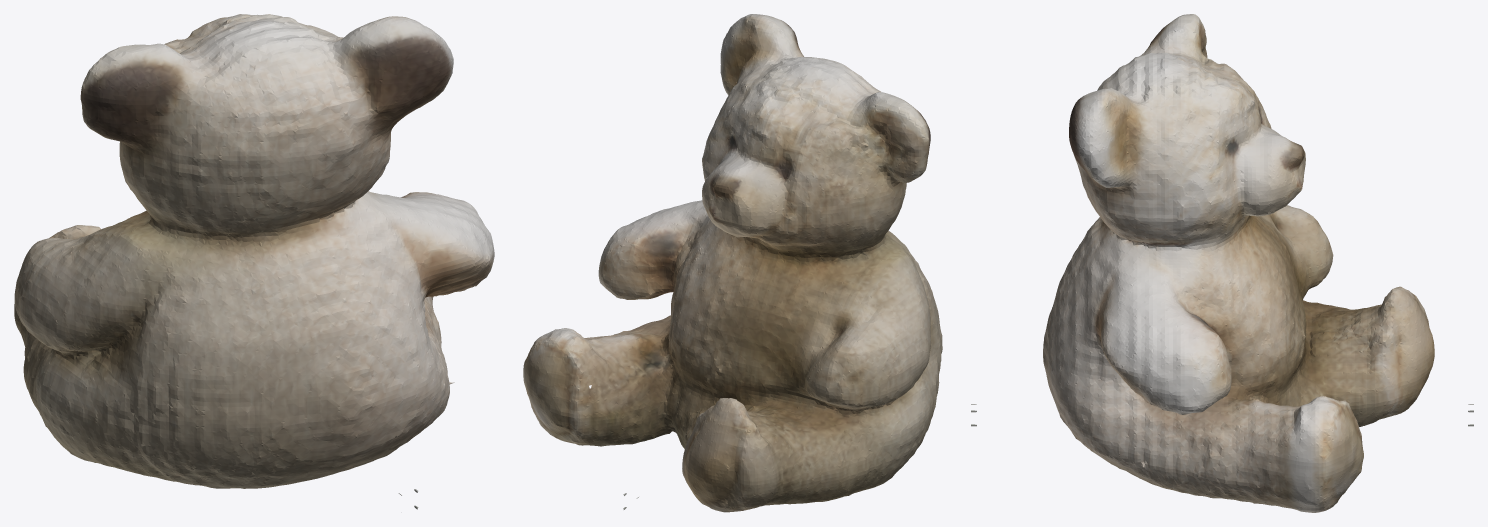
File: full.glb
The picture shows the model from 3 angles, left to right: view 1: azimuth 30°, elevation 25°; view 2: azimuth 150°, elevation 25°; view 3: azimuth 270°, elevation 25°; orthographic projection. The views are drawn at different scales.
Parts seen in each view (by area): view 1: world; view 2: world; view 3: world.
Part boxes in pixels (bbox=[...]): world: bbox=[14, 14, 494, 509]; world: bbox=[523, 14, 942, 512]; world: bbox=[971, 14, 1473, 512].
Size of the model in its own units: 1.72 by 1.71 by 2.08.
